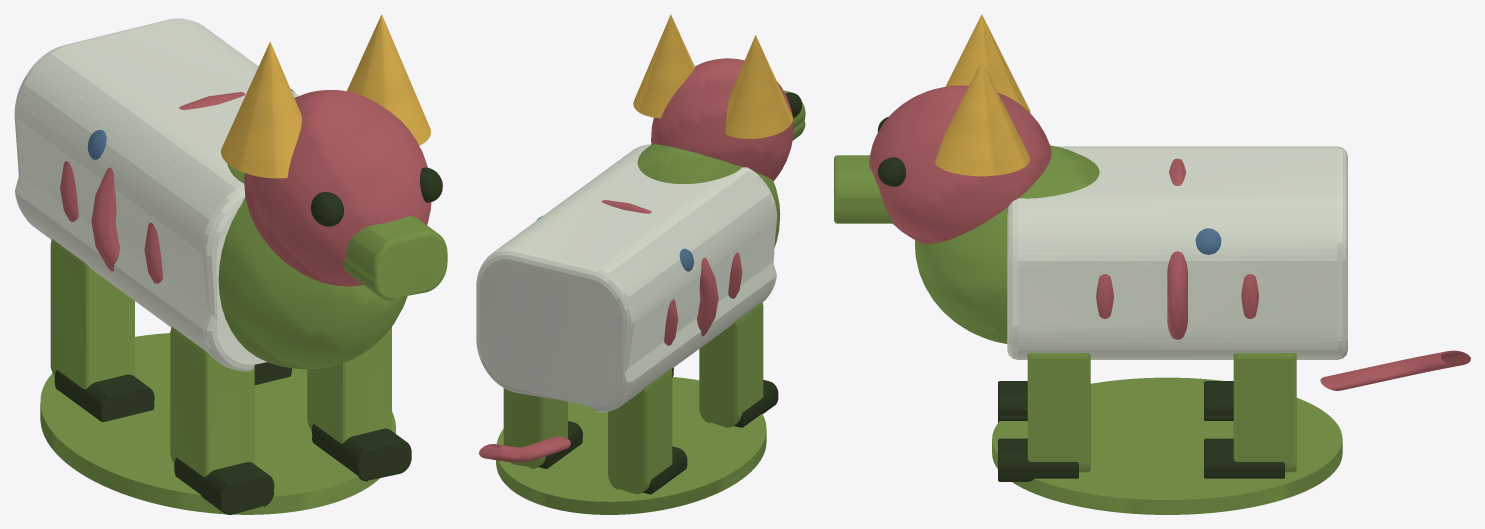
Rendered from 0834_两栖动物图鉴_无斑雨蛙.glb.
3 renders of one model, left to right at view 1: azimuth 30°, elevation 25°; view 2: azimuth 150°, elevation 25°; view 3: azimuth 270°, elevation 25°, orthographic. The views are drawn at different scales.
Parts seen in each view (by area): view 1: card_0834; view 2: card_0834; view 3: card_0834.
Part boxes in pixels (<box>): card_0834: <box>14,14,447,514</box>; card_0834: <box>476,14,805,514</box>; card_0834: <box>834,14,1470,514</box>.
Bounding box in the file's own units: 0.6311 × 1 × 1.39.
